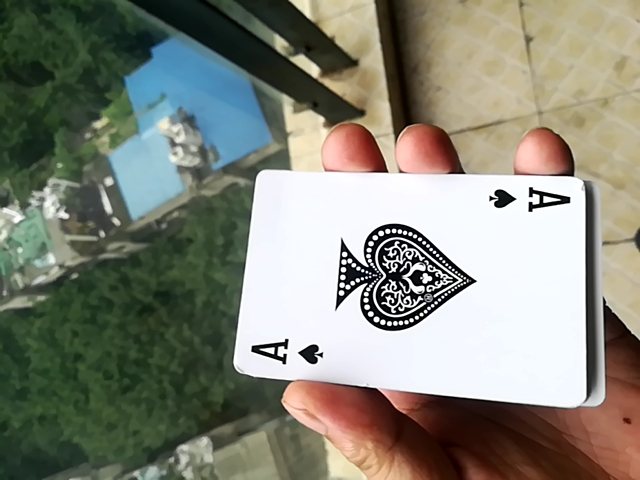ht a: (226, 166, 593, 415)
